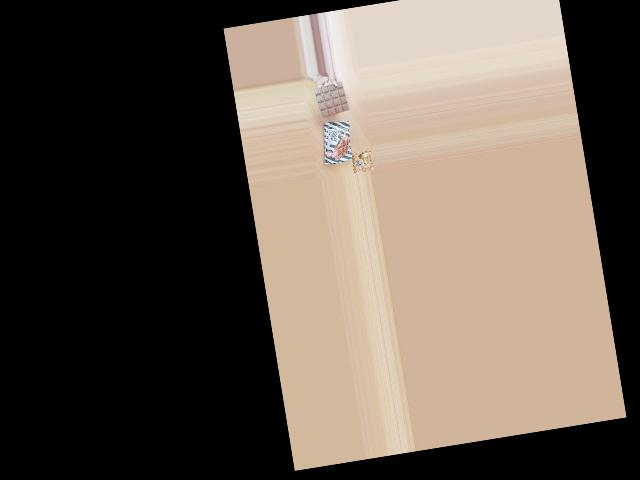chocolate: (318, 117, 354, 167)
